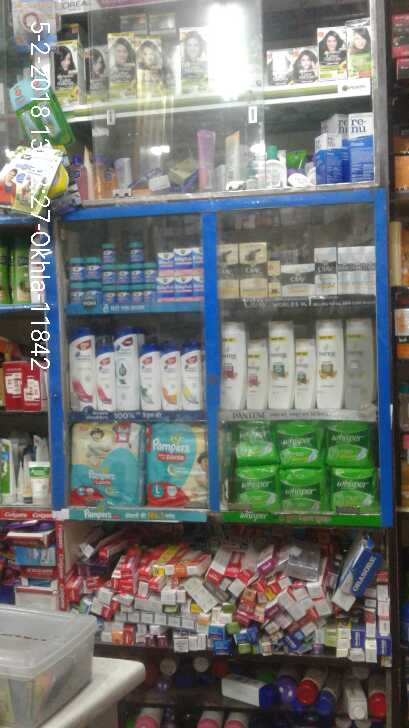vicks: (62, 234, 208, 308)
